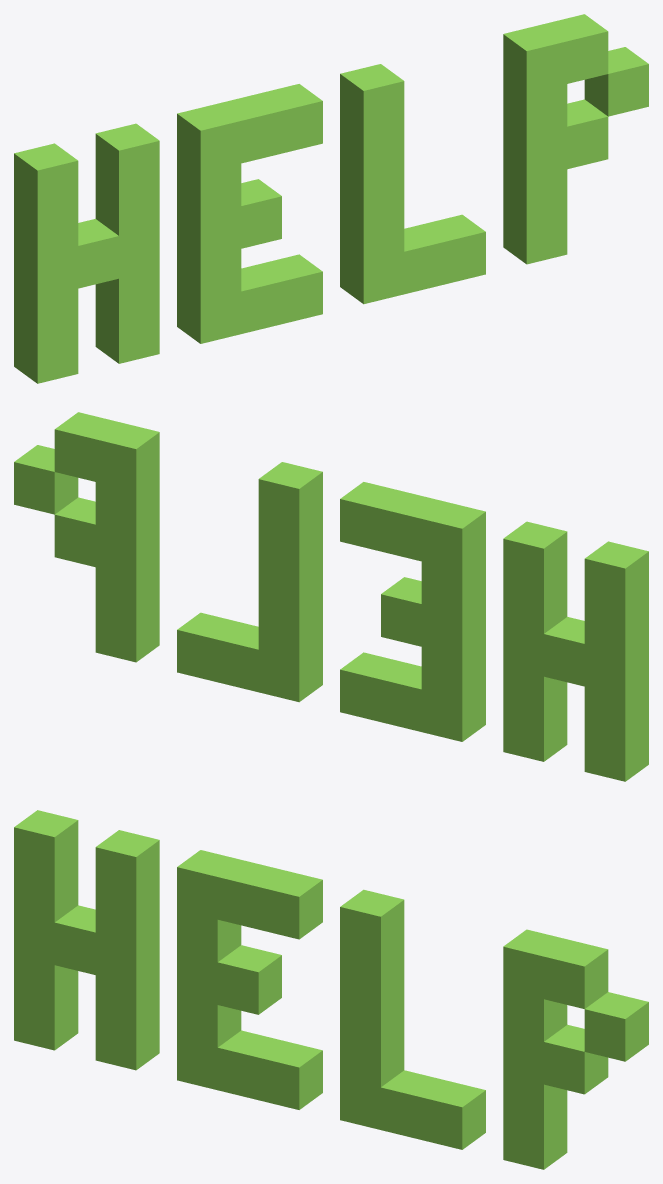
Rendered from HelpButton.obj.
3 views of the same model, one above another, from view 1: azimuth 30°, elevation 25°; view 2: azimuth 150°, elevation 25°; view 3: azimuth 330°, elevation 25° (orthographic).
Visible parts, largest first — view 1: HelpButton; view 2: HelpButton; view 3: HelpButton.
Part boxes in pixels (x1,y1,x2,y2): HelpButton: (14,14,648,383); HelpButton: (14,412,648,781); HelpButton: (14,810,648,1169).
Bounding box in the file's own units: 15 × 5 × 1.
Materials: 1 (1 with a texture image).
